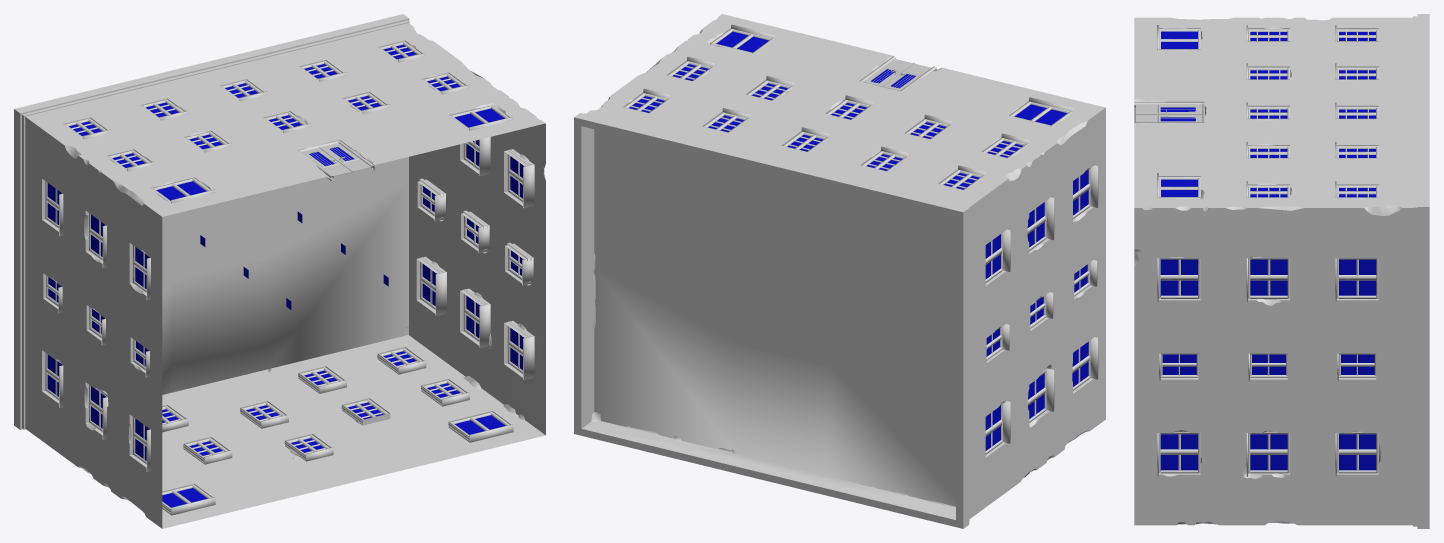
File: deletedFacesUlt25.fbx
3 renders of one model, left to right at view 1: azimuth 30°, elevation 25°; view 2: azimuth 150°, elevation 25°; view 3: azimuth 270°, elevation 25°, orthographic.
Parts seen in each view (by area): view 1: outerwall, Transp, doorEntry_L; view 2: outerwall, Transp, doorEntry_L; view 3: outerwall, Transp, doorEntry_L, doorEntry_R.
Boxes of the visible parts, bbox=[...] form: outerwall: bbox=[14, 14, 545, 528]; Transp: bbox=[47, 44, 523, 507]; doorEntry_L: bbox=[302, 147, 353, 176]; outerwall: bbox=[574, 14, 1105, 528]; Transp: bbox=[629, 31, 1088, 450]; doorEntry_L: bbox=[881, 63, 931, 90]; outerwall: bbox=[1134, 14, 1429, 528]; Transp: bbox=[1160, 31, 1376, 470]; doorEntry_L: bbox=[1136, 104, 1202, 114]; doorEntry_R: bbox=[1136, 114, 1202, 122].
Size of the model in its own units: 2009 by 1561 by 1296.
